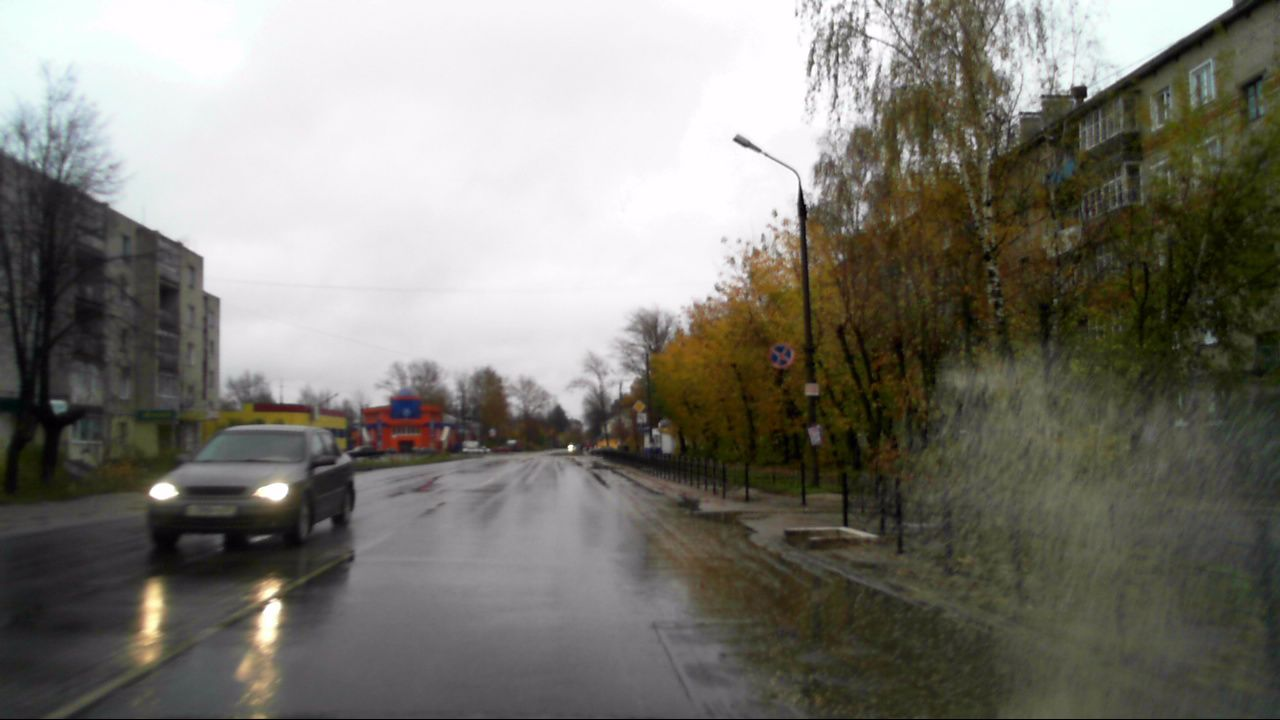No Parking: (767, 341, 795, 370)
